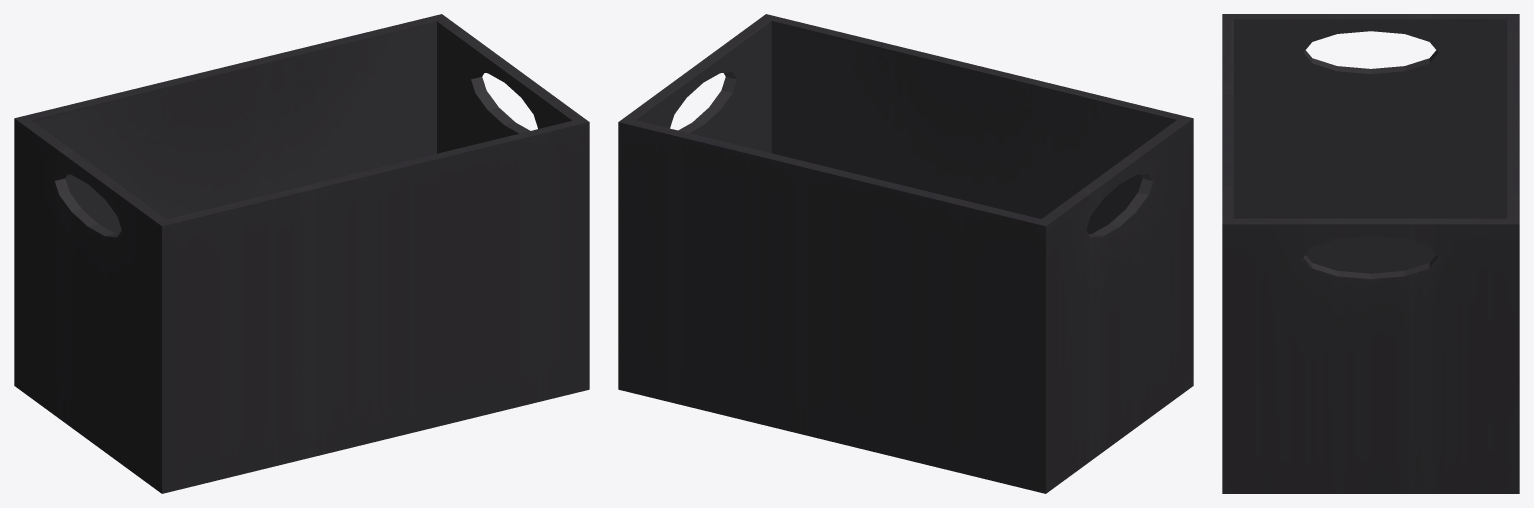
The model's file is Crate.fbx.
3 views of the same model, side by side, from view 1: azimuth 30°, elevation 25°; view 2: azimuth 150°, elevation 25°; view 3: azimuth 270°, elevation 25° (orthographic).
Visible parts, largest first — view 1: Cube; view 2: Cube; view 3: Cube.
Boxes of the visible parts, <box> form: Cube: <box>14,14,589,493</box>; Cube: <box>618,14,1193,493</box>; Cube: <box>1222,14,1519,493</box>.
Bounding box in the file's own units: 1.92 × 1.15 × 1.15.
